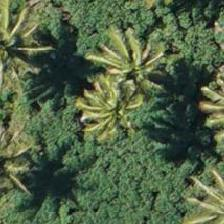coconut_tree: (83, 18, 173, 108), (65, 62, 155, 152), (0, 0, 48, 83)
